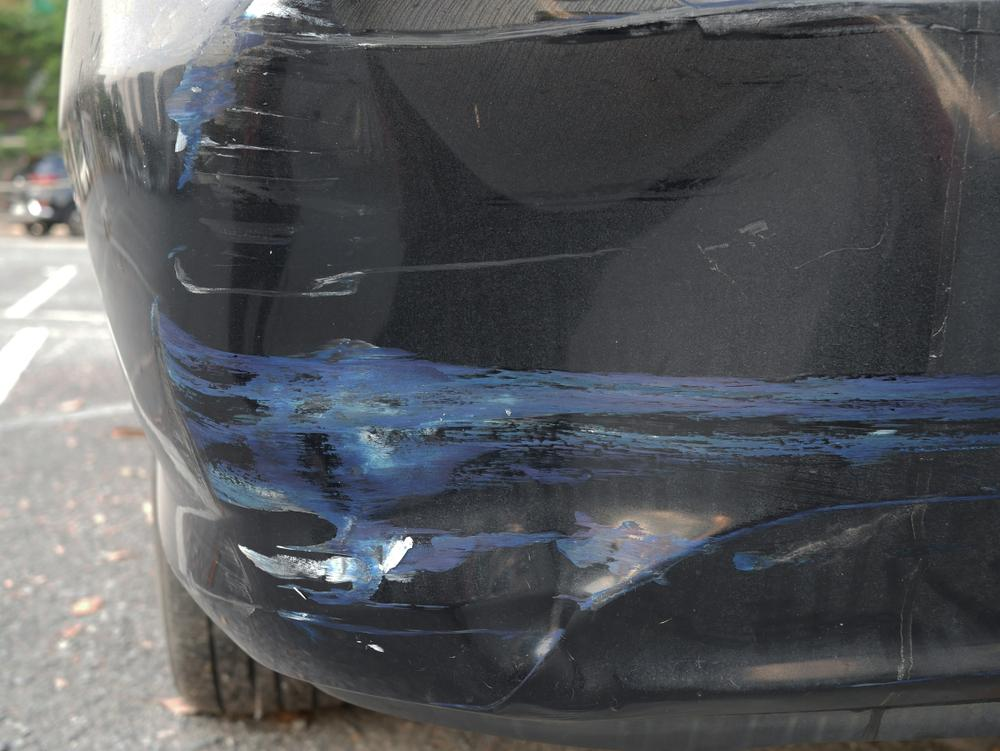dent: (207, 41, 840, 674)
scratch: (148, 0, 367, 468), (704, 371, 1000, 572), (308, 0, 1000, 56)
